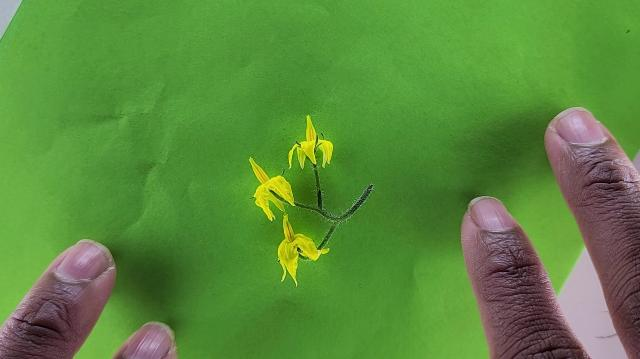Anthesis: (277, 211, 325, 288), (247, 156, 295, 223), (288, 113, 334, 172)
